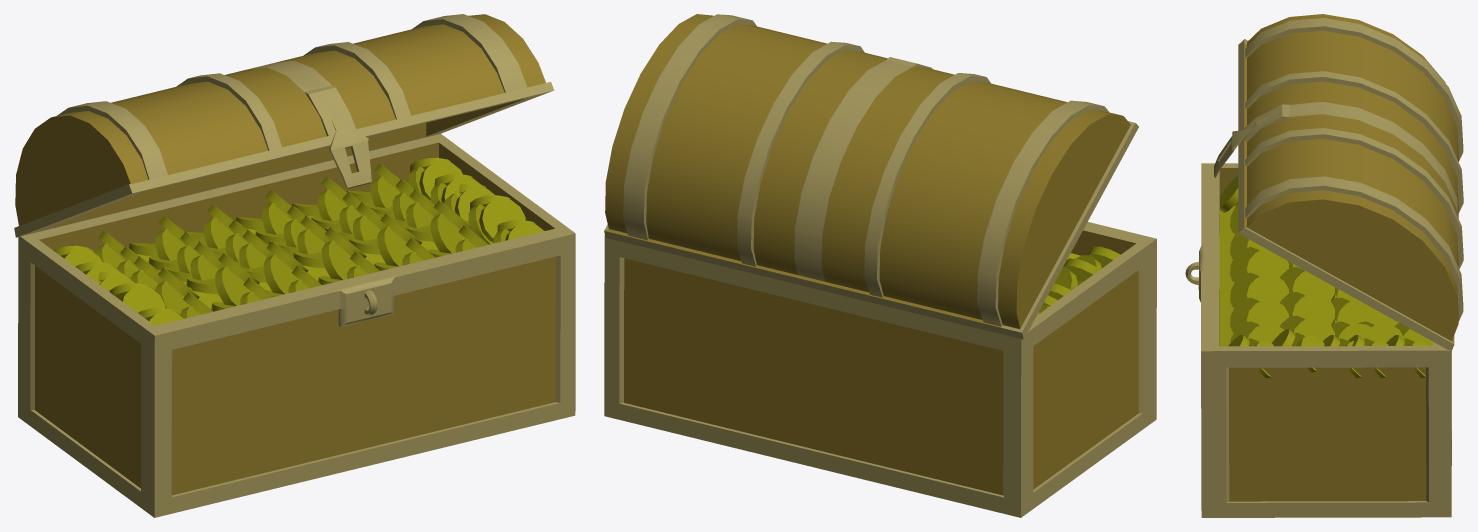
File: openend chest.fbx
The picture shows the model from 3 angles, left to right: view 1: azimuth 30°, elevation 25°; view 2: azimuth 150°, elevation 25°; view 3: azimuth 270°, elevation 25°; orthographic projection. The views are drawn at different scales.
Parts seen in each view (by area): view 1: chest_open_bottom, polySurface91; view 2: polySurface91, chest_open_bottom; view 3: chest_open_bottom, polySurface91.
Part boxes in pixels (box(x1,y1,x2,y2)): chest_open_bottom: box(18, 133, 575, 517); polySurface91: box(14, 14, 554, 237); polySurface91: box(604, 14, 1138, 339); chest_open_bottom: box(604, 222, 1156, 517); chest_open_bottom: box(1185, 163, 1451, 517); polySurface91: box(1214, 14, 1463, 351).
Size of the model in its own units: 440 by 349 by 274.
